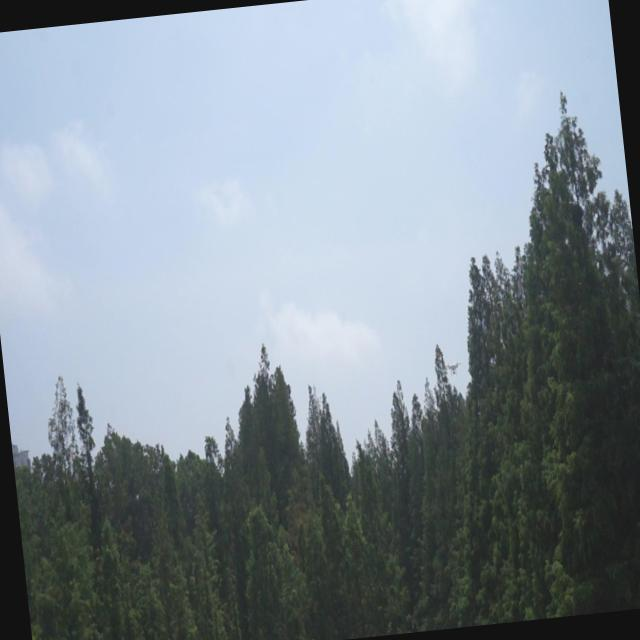drone: (442, 355, 464, 379)
